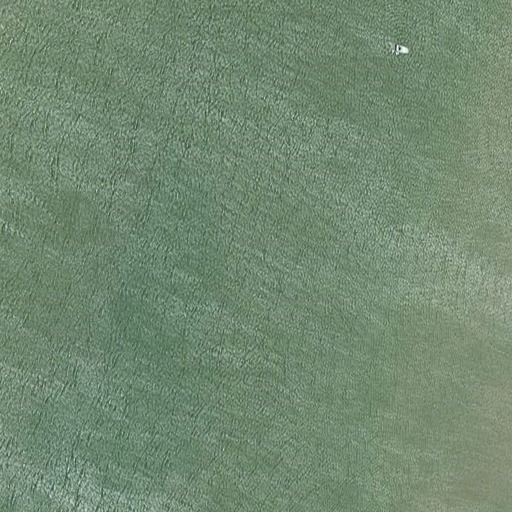ship: (394, 43, 411, 57)
